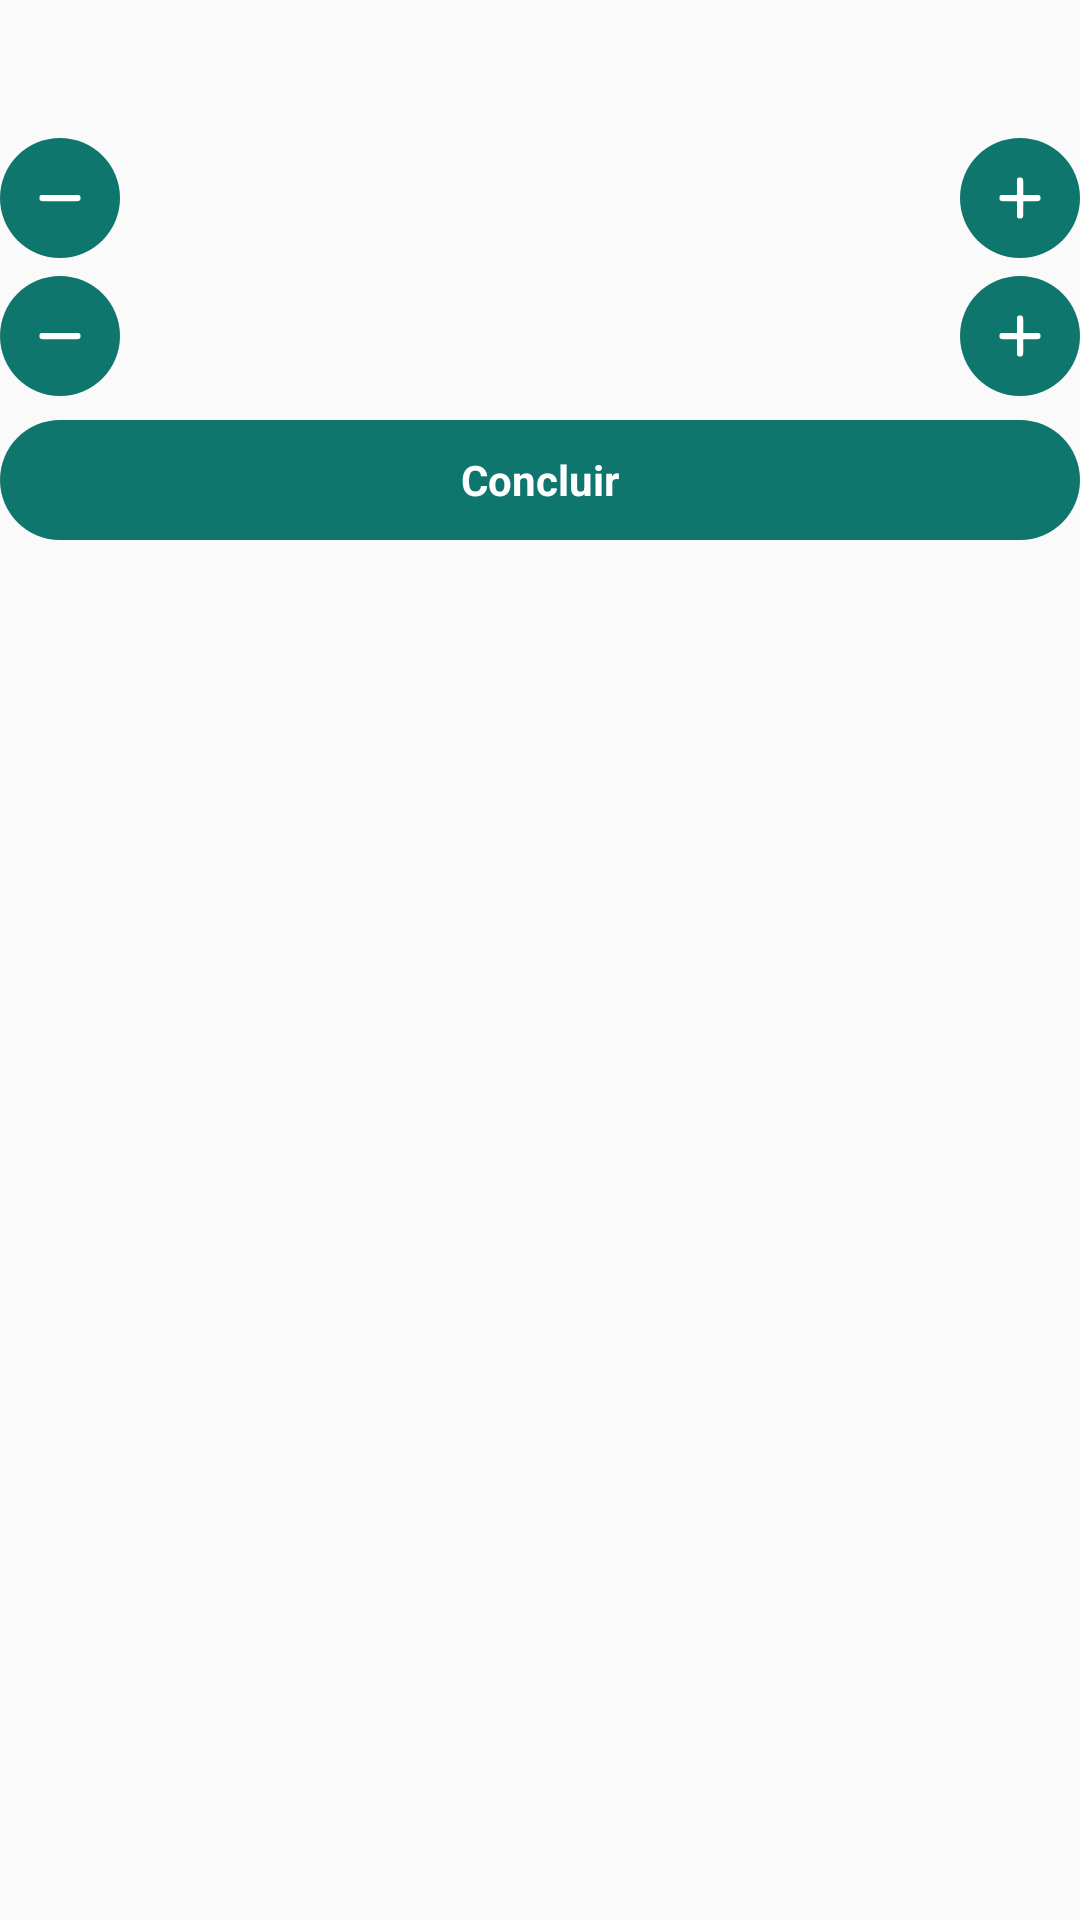

Screen size 1080x1920. Icon name, then its center in pixels as point (x, y):
Aumentar a carga: point (1020, 198)
Diminuir a carga: point (60, 198)
workout minus: point (60, 336)
workout plus: point (1020, 336)
